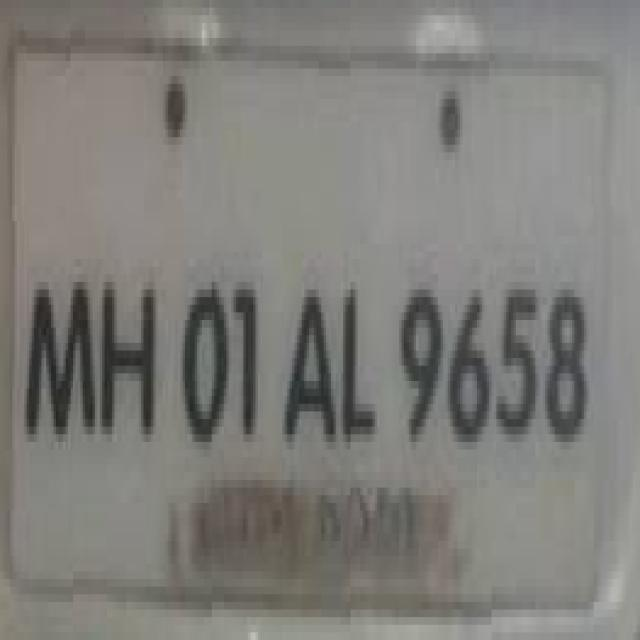license_plate: (5, 69, 606, 572)
